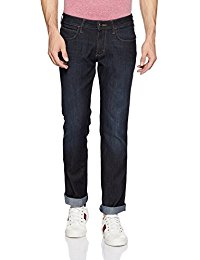Jeans: (56, 6, 141, 220)
